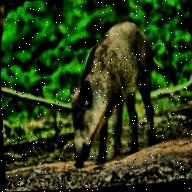boar: (65, 17, 159, 167)
